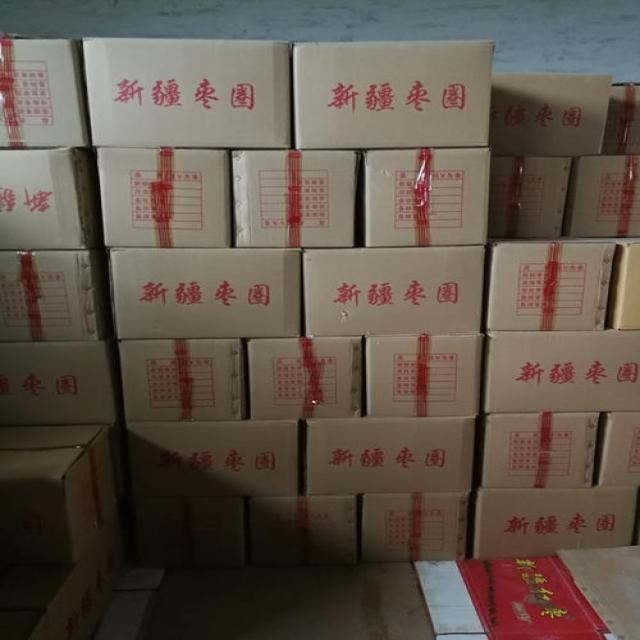box: (84, 40, 296, 148), (293, 40, 493, 146), (105, 247, 306, 340), (304, 244, 486, 338), (0, 425, 120, 564), (0, 518, 132, 639), (121, 418, 301, 497), (303, 417, 480, 497), (94, 147, 232, 247), (483, 329, 639, 414), (359, 146, 489, 246), (231, 149, 361, 247), (484, 240, 617, 330), (475, 488, 639, 560), (115, 337, 246, 422), (0, 36, 90, 151), (0, 148, 99, 251), (491, 73, 613, 156), (243, 338, 366, 420), (0, 249, 107, 343), (364, 335, 485, 418), (0, 340, 120, 423), (481, 412, 602, 488), (127, 496, 251, 564), (244, 494, 361, 563), (361, 493, 469, 563), (489, 156, 577, 238), (566, 155, 639, 236), (594, 412, 639, 487), (606, 237, 639, 329), (601, 83, 639, 154)
